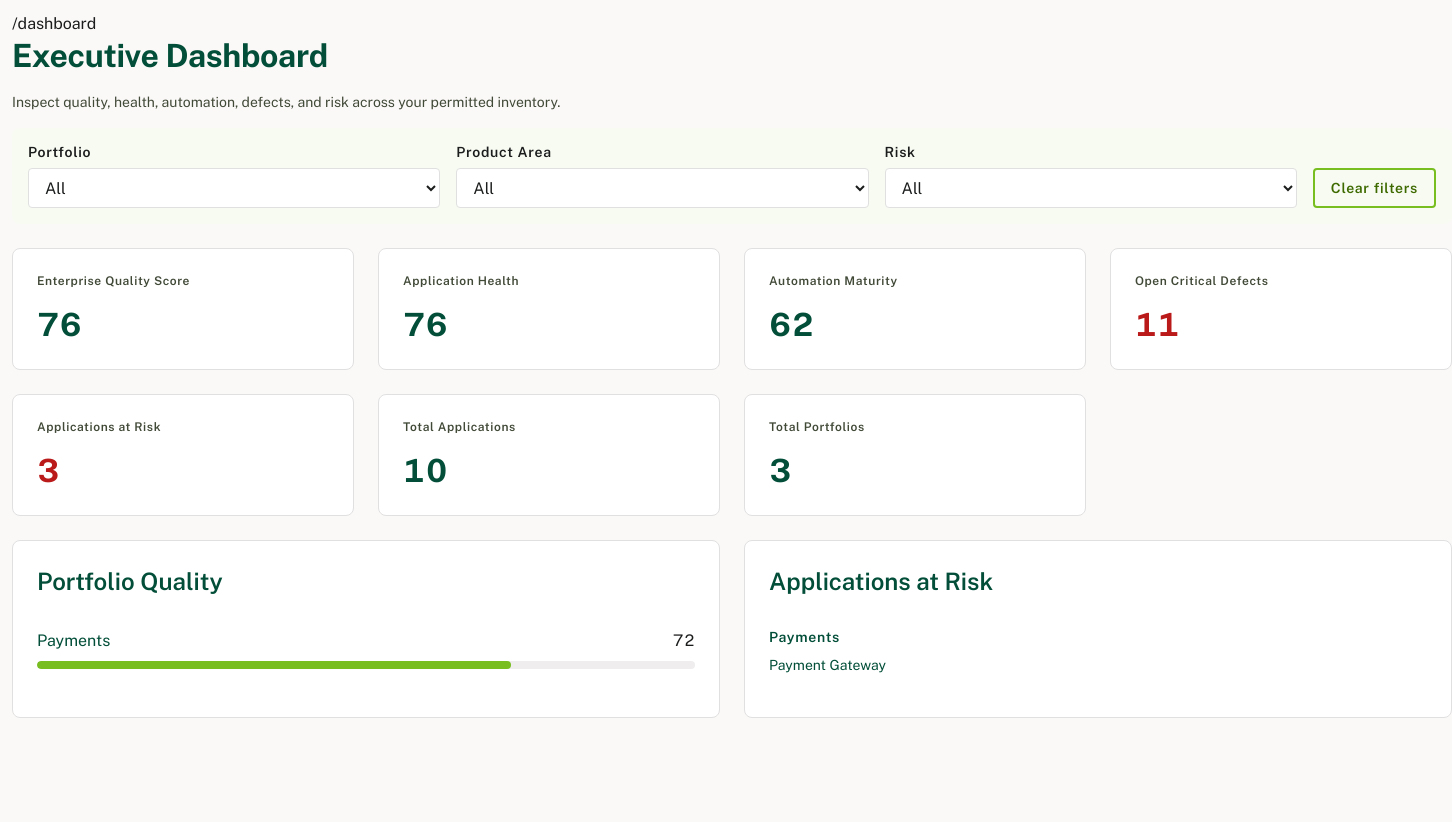
it: persists all three filters in URL and renders every filtered result, then clears them
This screenshot has width=1452, height=822.
Expected: the element "Total Applications" is shown, x1=378 y1=394 x2=720 y2=516
Select "Payments" in the dropdown labelled "Portfolio" at {"x": 234, "y": 188}, box x1=28 y1=168 x2=440 y2=208
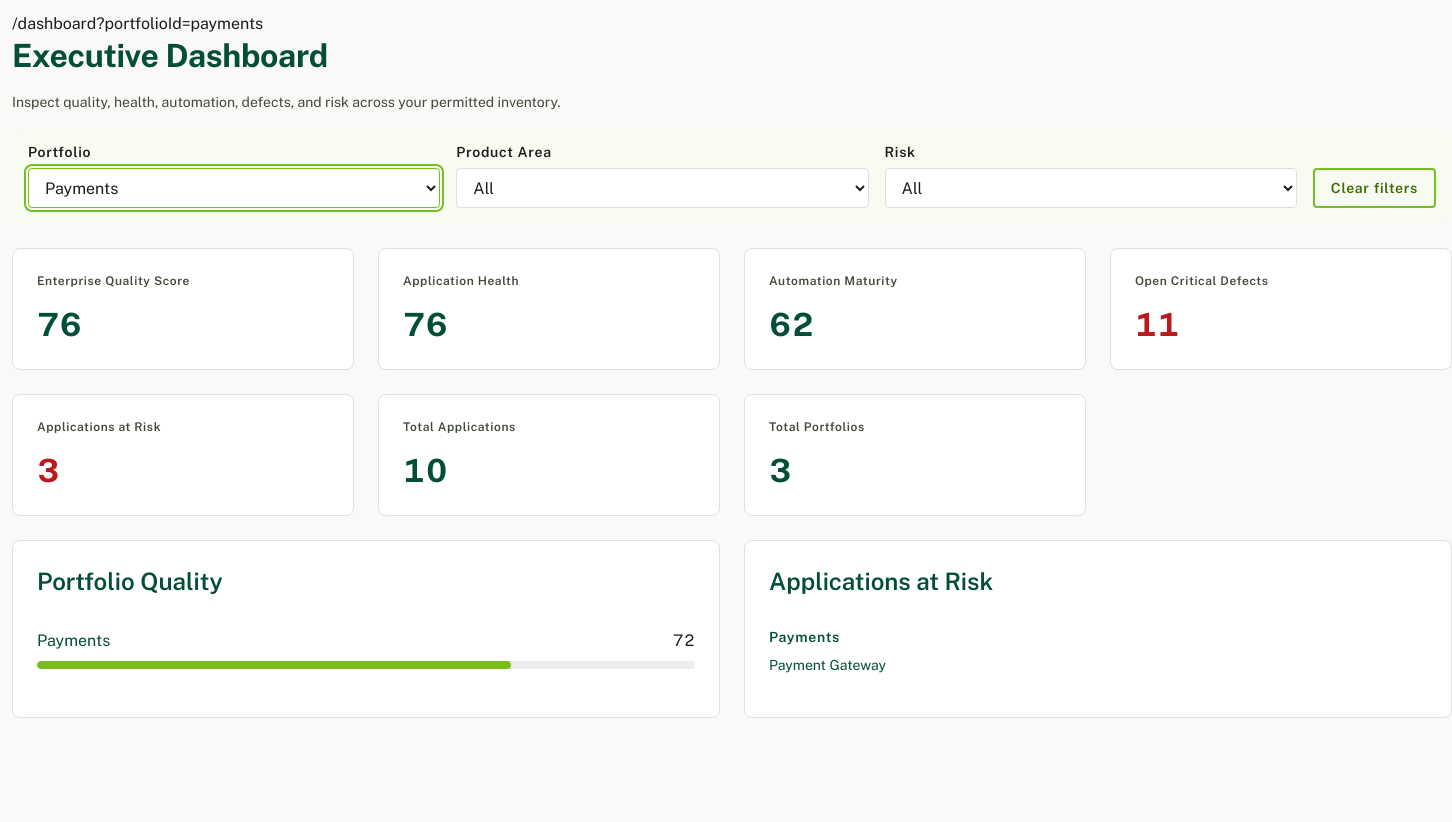
Expected: the element "Total Applications" is shown, x1=378 y1=394 x2=720 y2=516
Select "Commerce" in the dropdown labelled "Product Area" at {"x": 662, "y": 188}, box x1=456 y1=168 x2=869 y2=208
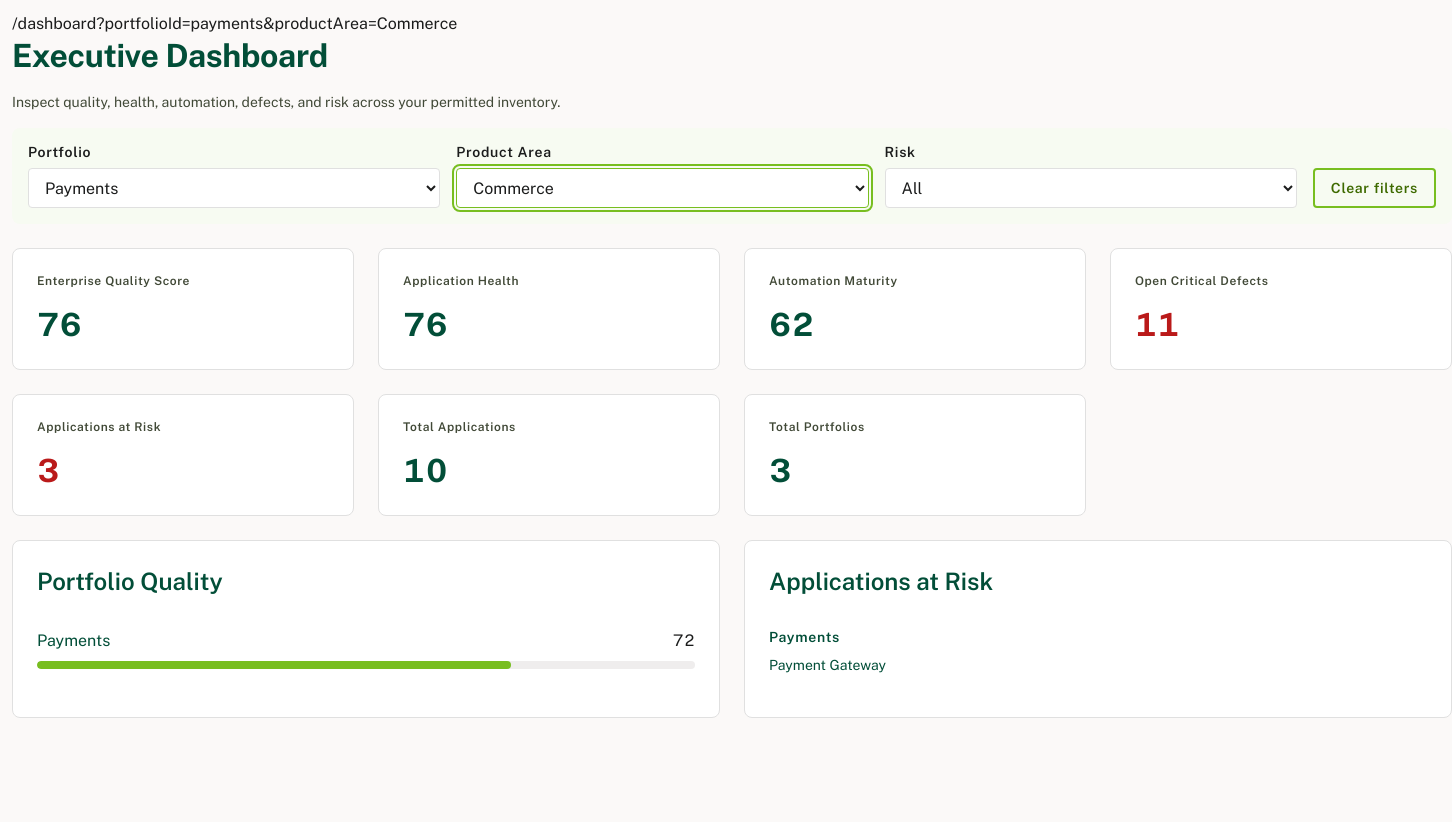
Expected: the element "Total Applications" is shown, x1=378 y1=394 x2=720 y2=516
Select "High" in the dropdown labelled "Risk" at {"x": 1091, "y": 188}, box x1=885 y1=168 x2=1297 y2=208
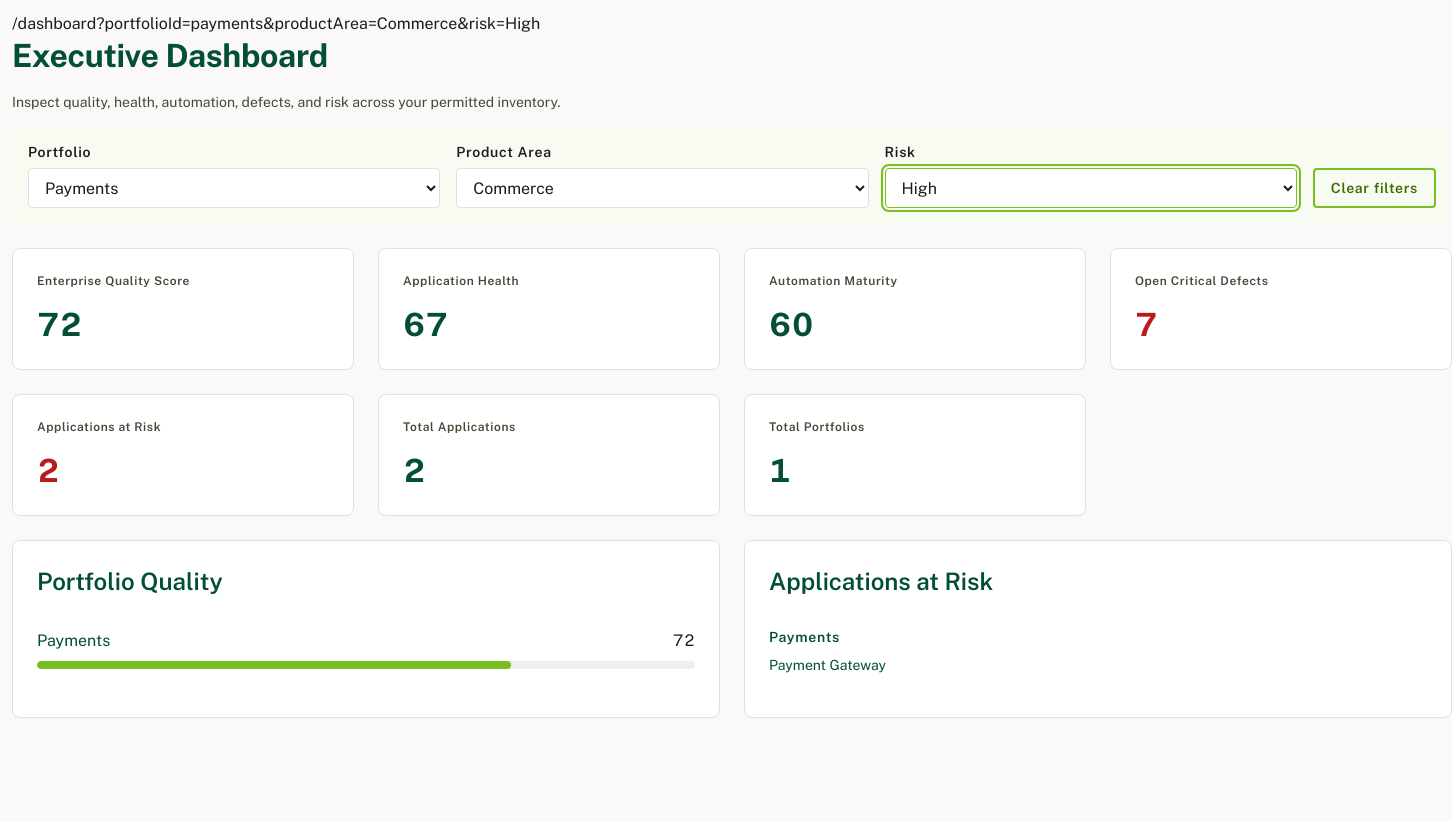
Expected: the text "2" below "Total Applications" is shown, x1=403 y1=452 x2=425 y2=489
Expected: the text named "Current route" reads "/dashboard?portfolioId=payments&productArea=Commerce&risk=High", x1=12 y1=14 x2=540 y2=33
Click the button "Clear filters" at {"x": 1374, "y": 188}, box x1=1313 y1=168 x2=1436 y2=208
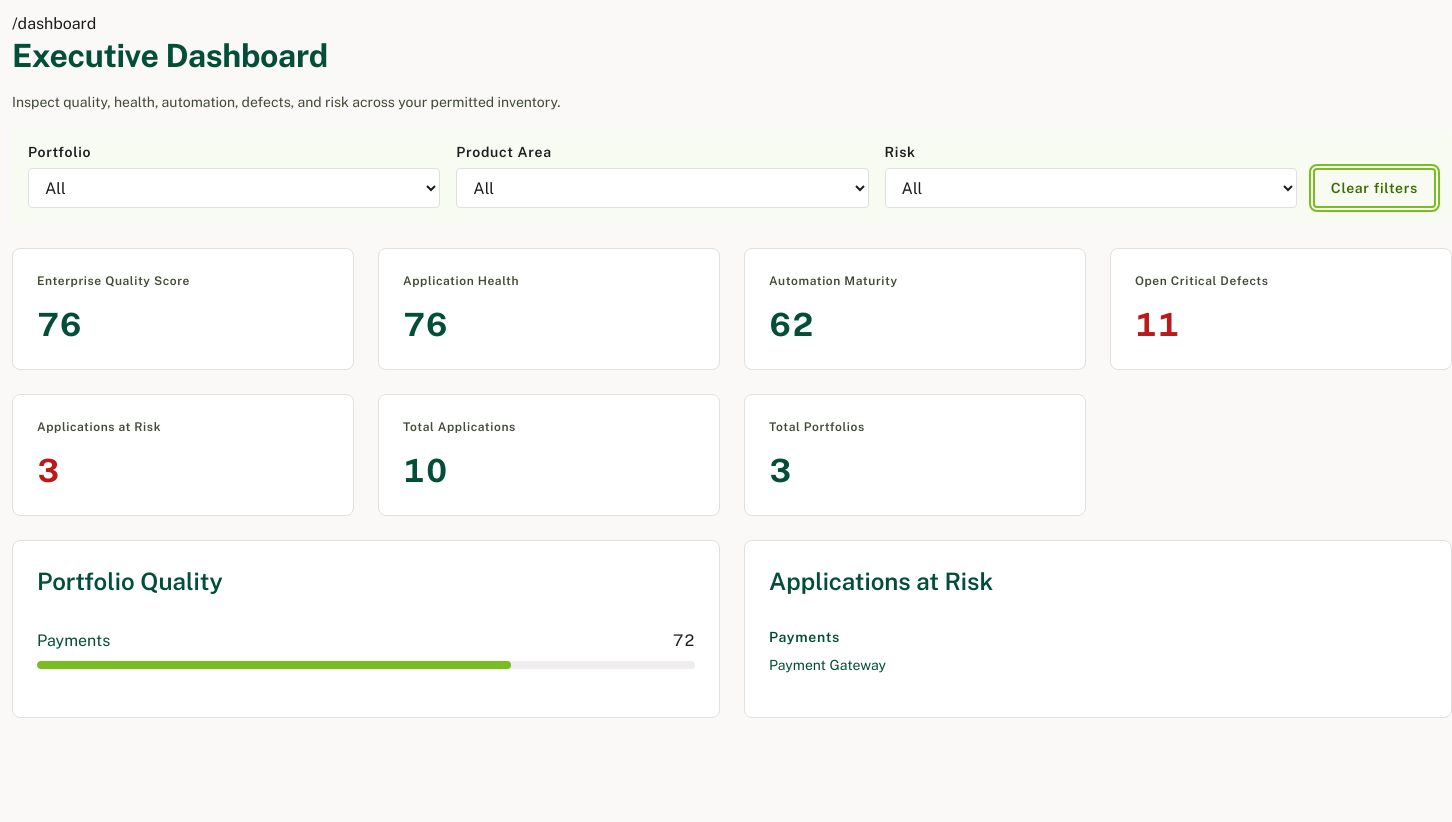
Expected: the text named "Current route" reads "/dashboard", x1=12 y1=14 x2=96 y2=33
Expected: the text "10" is shown, x1=403 y1=452 x2=448 y2=489
